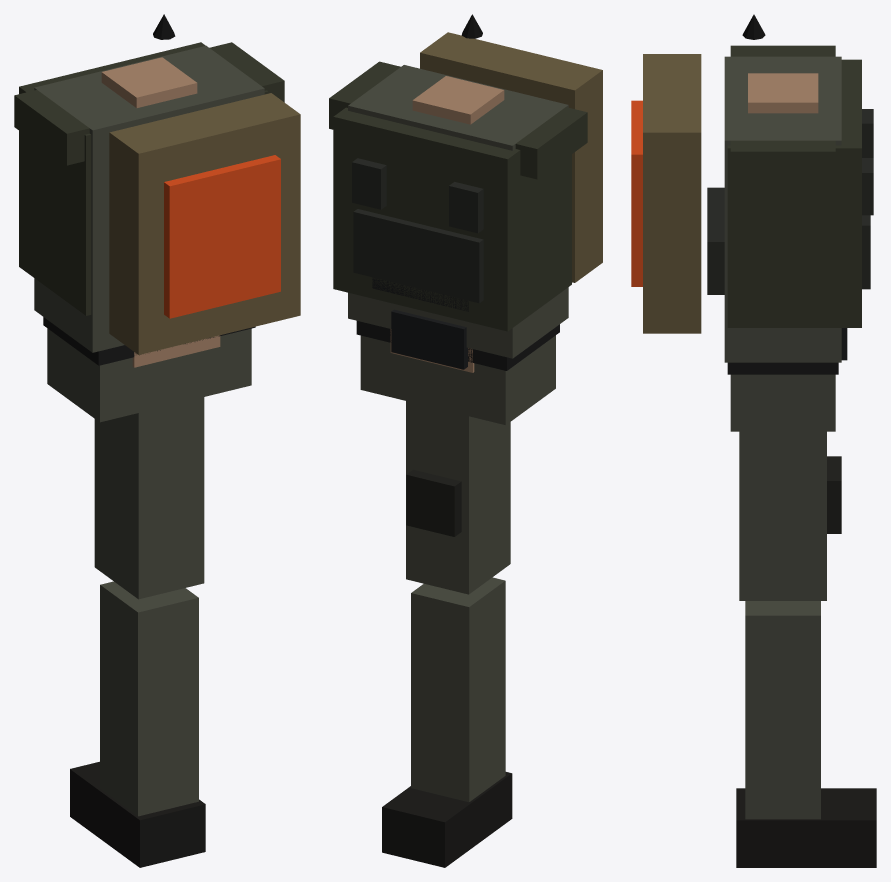
The model's file is operator_thermite.glb.
3 views of the same model, side by side, from view 1: azimuth 30°, elevation 25°; view 2: azimuth 150°, elevation 25°; view 3: azimuth 270°, elevation 25° (orthographic). The views are drawn at different scales.
Visible parts, largest first — view 1: torso, legL, torso_glow, hips, head; view 2: torso, legL, hips, head; view 3: torso, legL, hips, torso_glow, head.
Boxes of the visible parts, x1,y1,x2,y2 form: torso: (14, 14, 300, 354); legL: (70, 397, 205, 867); torso_glow: (164, 155, 280, 318); hips: (43, 317, 255, 422); head: (132, 335, 220, 367); torso: (329, 14, 602, 358); legL: (382, 401, 512, 867); hips: (356, 321, 559, 425); head: (372, 277, 474, 372); torso: (643, 14, 873, 362); legL: (736, 431, 876, 867); hips: (727, 362, 838, 431); torso_glow: (631, 100, 642, 286); head: (707, 187, 847, 360).
Size of the model in its own units: 0.43 by 1.58 by 0.42.
